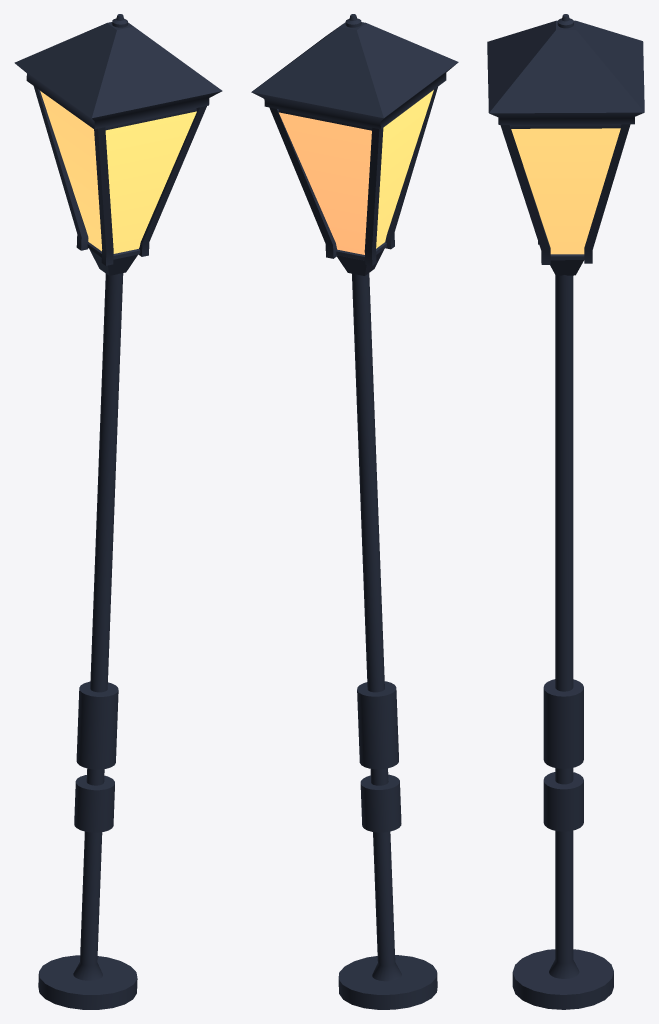
File: tall_lamp.fbx
The picture shows the model from 3 angles, left to right: view 1: azimuth 30°, elevation 25°; view 2: azimuth 150°, elevation 25°; view 3: azimuth 270°, elevation 25°; orthographic projection. The views are drawn at different scales.
Visible parts, largest first — view 1: board3:pCube8; view 2: board3:pCube8; view 3: board3:pCube8.
Part boxes in pixels (x1,y1,x2,y2): board3:pCube8: [14, 14, 222, 1009]; board3:pCube8: [251, 14, 458, 1009]; board3:pCube8: [487, 14, 644, 1009].
Size of the model in its own units: 1.34 by 8.73 by 1.26.
